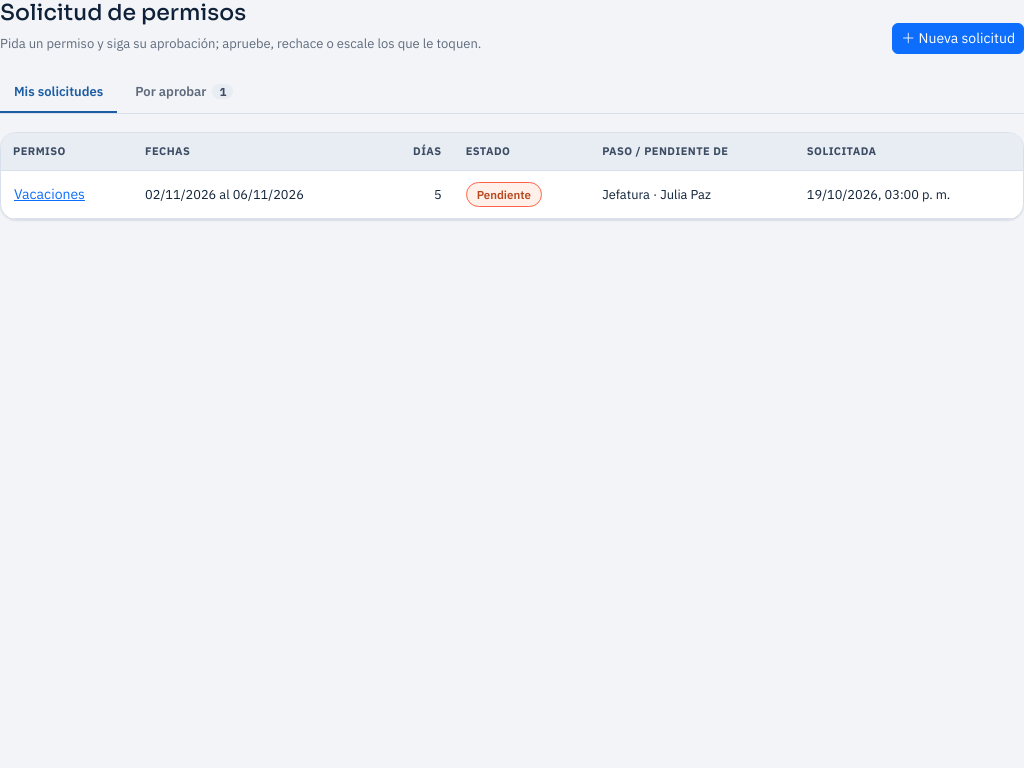
Test: Solicitud de permisos › debajo de los días muestra las restricciones y no deja enviar si falla una
Click the button "Nueva solicitud" at (958, 38), box [892,23,1023,54]
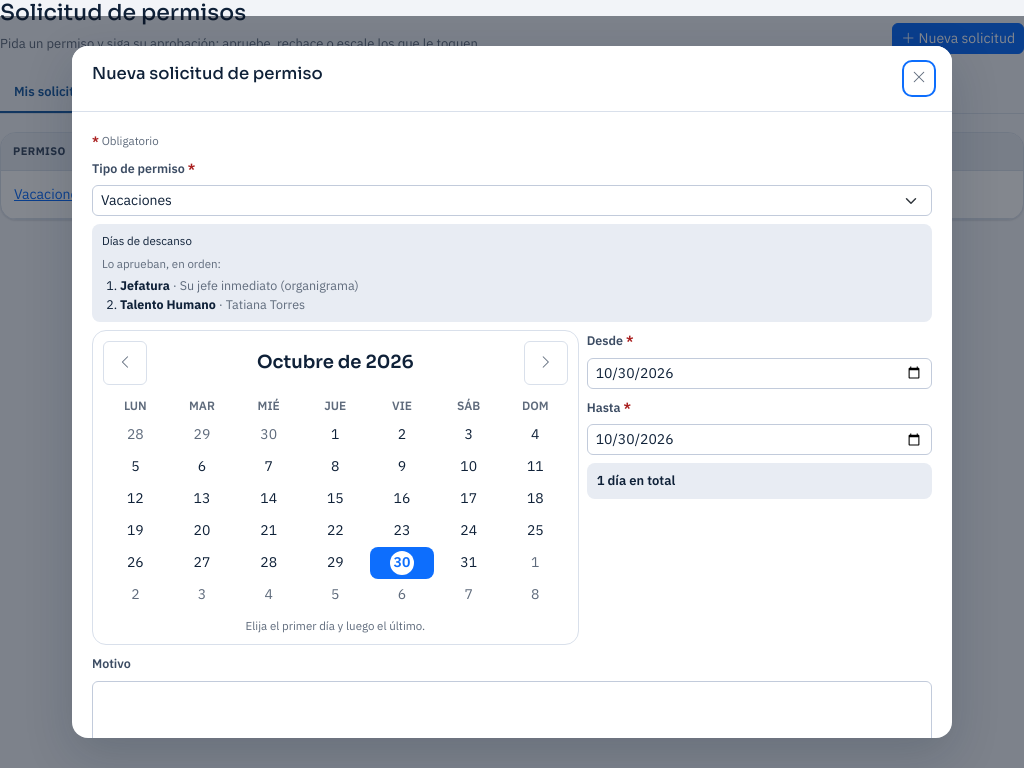
Result: the text "Jefatura" is shown at [120,277,170,293]
Type "2026-11-02" into the date field labelled "Desde *" at (759, 373), box [587,358,932,389]
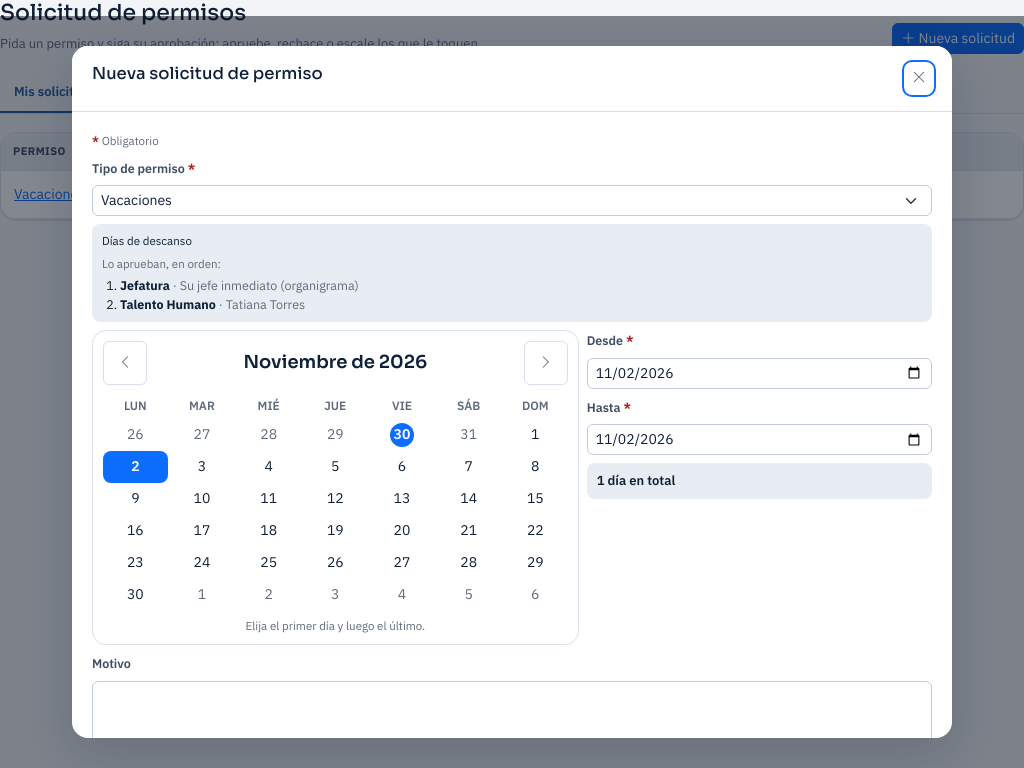
Type "2026-11-04" into the date field labelled "Hasta *" at (759, 440), box [587,424,932,455]
(page scrolled)
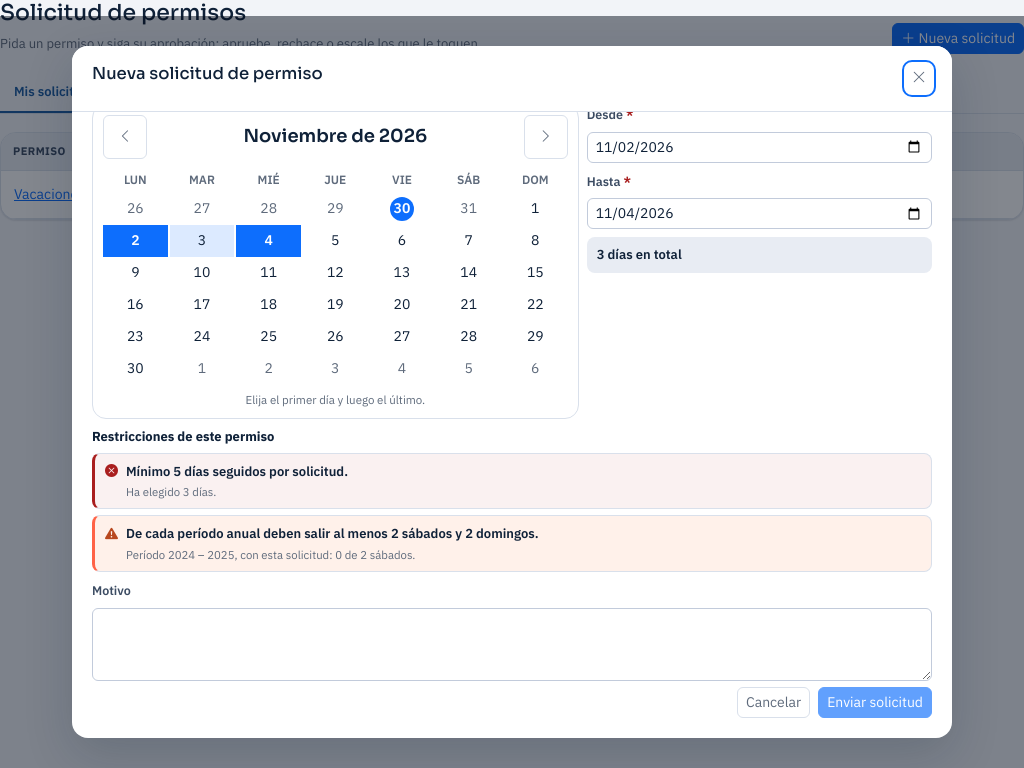
Result: the text "Mínimo 5 días seguidos por solicitud." is shown at [126,462,348,481]
Result: the text "Ha elegido 3 días." is shown at [126,484,216,499]
Result: the text "Período 2024 – 2025, con esta solicitud: 0 de 2 sábados." is shown at [126,547,416,562]
